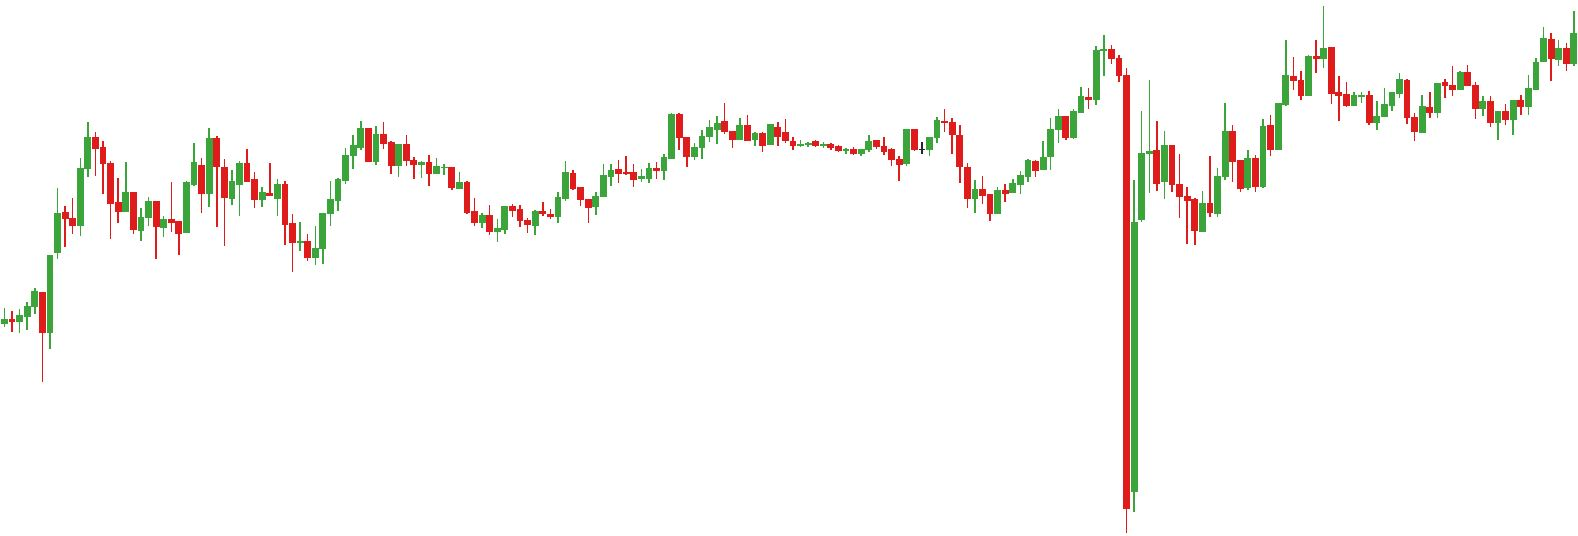buy: (1373, 83, 1428, 143)
